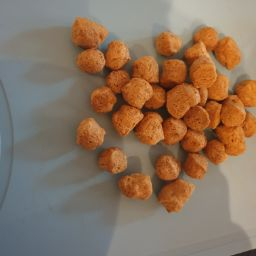Glycine max(soyabean): (45, 13, 256, 235), (98, 137, 163, 202), (190, 29, 249, 93), (167, 110, 215, 179), (76, 91, 125, 156), (127, 78, 171, 143), (73, 51, 135, 96), (55, 10, 116, 54), (157, 177, 197, 216), (223, 91, 249, 134), (147, 24, 177, 57)
